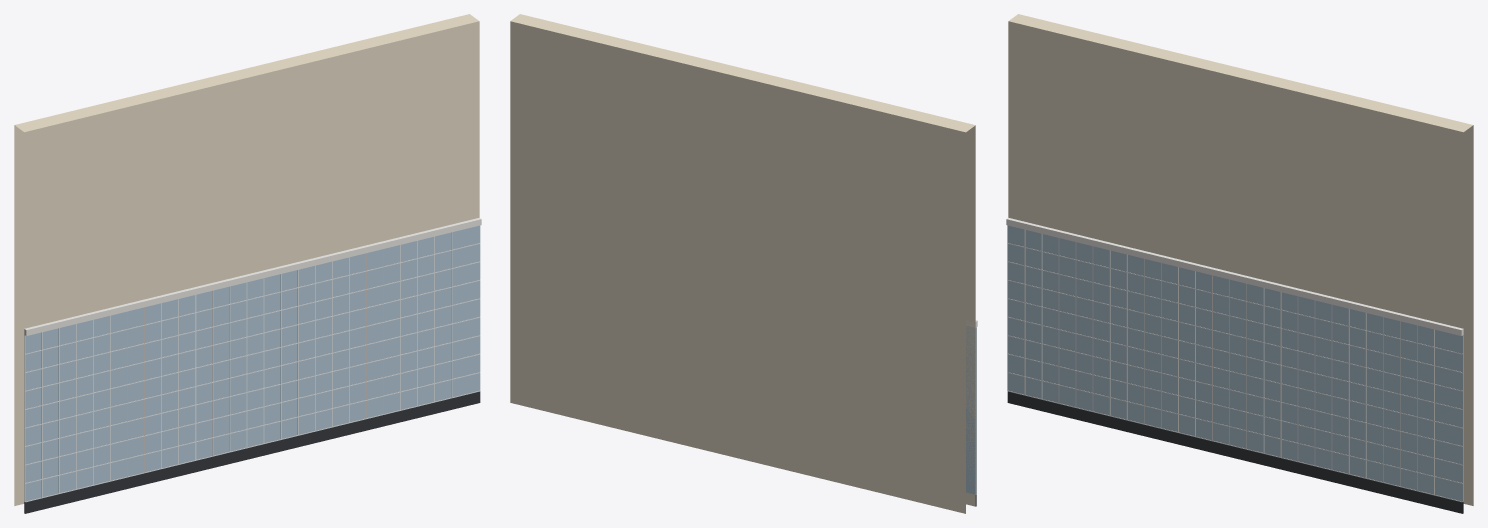
File: Wall_Tile_Bath_4m.obj
The picture shows the model from 3 angles, left to right: view 1: azimuth 30°, elevation 25°; view 2: azimuth 150°, elevation 25°; view 3: azimuth 330°, elevation 25°; orthographic projection.
Visible parts, largest first — view 1: Wall_Tile_Bath_4m; view 2: Wall_Tile_Bath_4m; view 3: Wall_Tile_Bath_4m.
Boxes of the visible parts, x1,y1,x2,y2 form: Wall_Tile_Bath_4m: (14, 14, 481, 513); Wall_Tile_Bath_4m: (510, 14, 977, 513); Wall_Tile_Bath_4m: (1006, 14, 1473, 513).
Bounding box in the file's own units: 4 × 3.2 × 0.18.
